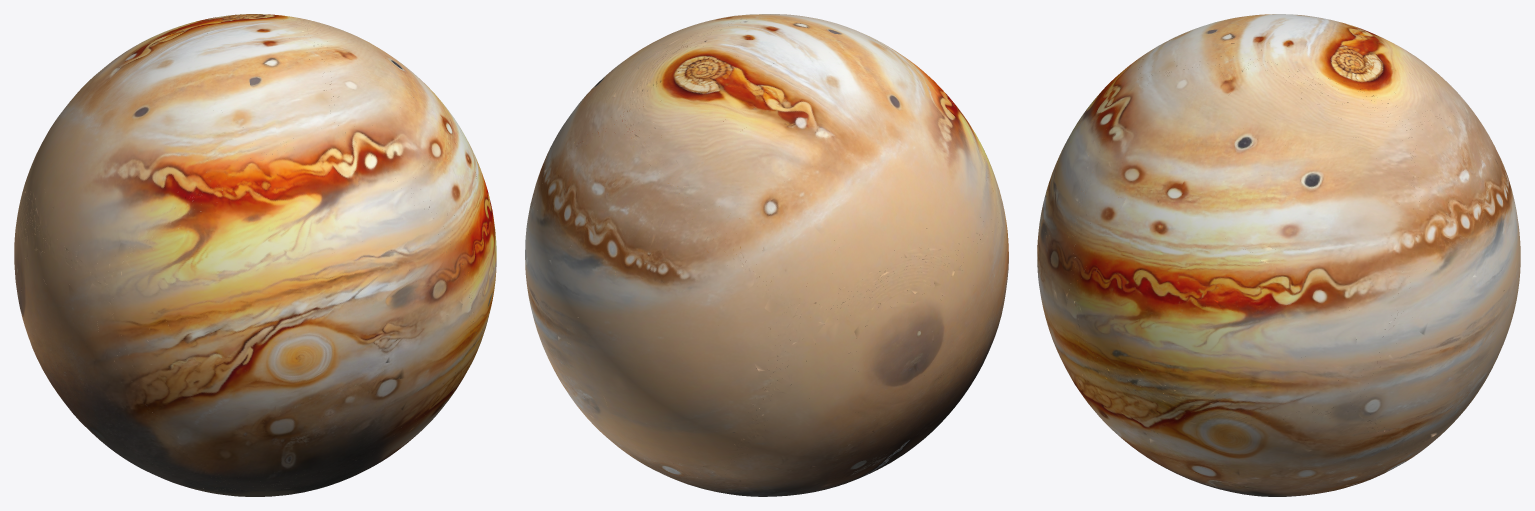
The model's file is Jupiter(draco).glb.
3 renders of one model, left to right at view 1: azimuth 30°, elevation 25°; view 2: azimuth 150°, elevation 25°; view 3: azimuth 270°, elevation 25°, orthographic.
Visible parts, largest first — view 1: Mesh_0.004; view 2: Mesh_0.004; view 3: Mesh_0.004.
Part boxes in pixels (left/top/right/bottom): Mesh_0.004: left=14, top=14, right=496, bottom=496; Mesh_0.004: left=525, top=14, right=1008, bottom=496; Mesh_0.004: left=1037, top=14, right=1520, bottom=496.
Size of the model in its own units: 2 by 2 by 2.01.
1 material, 1 textured.
